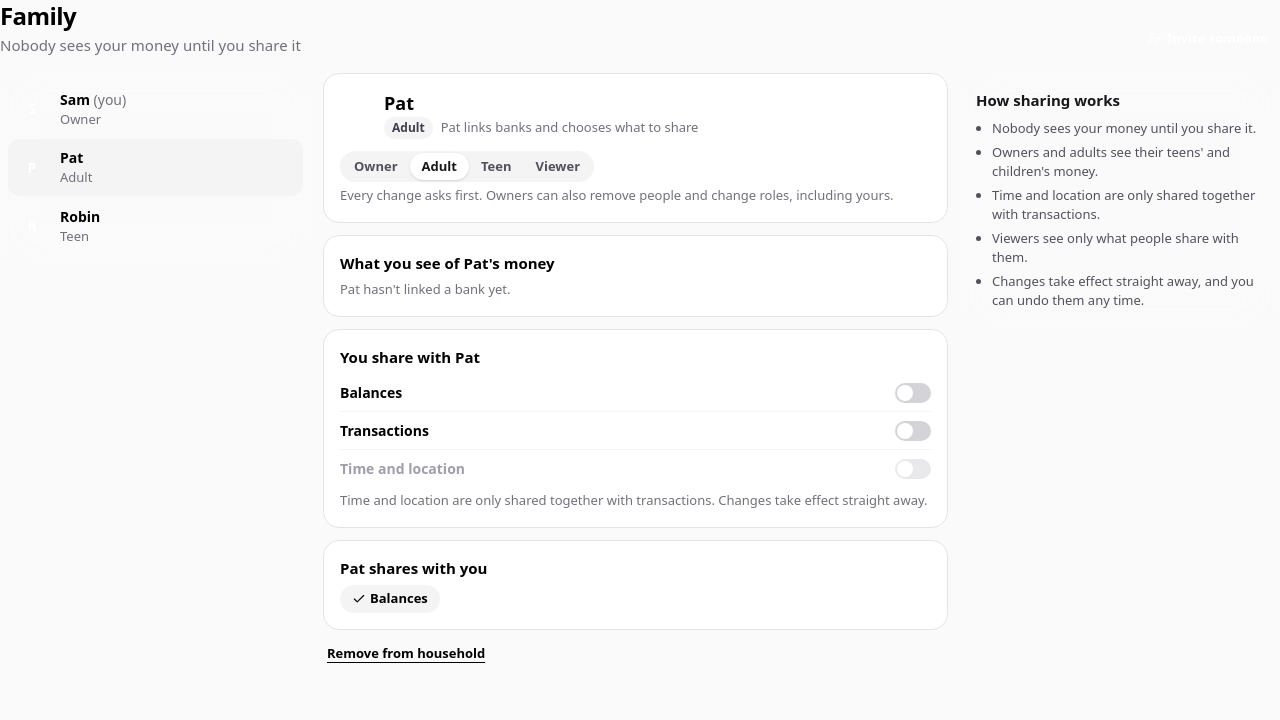
Test: FamilyPage › owners: invite, change roles and remove; removing needs the name and a fresh code
The width and height of the screenshot is (1280, 720).
Expected: the element named "Role for Pat" is shown, [340,150,594,182]
Click the button "Remove from household". click: (406, 653)
box: [327,644,485,663]
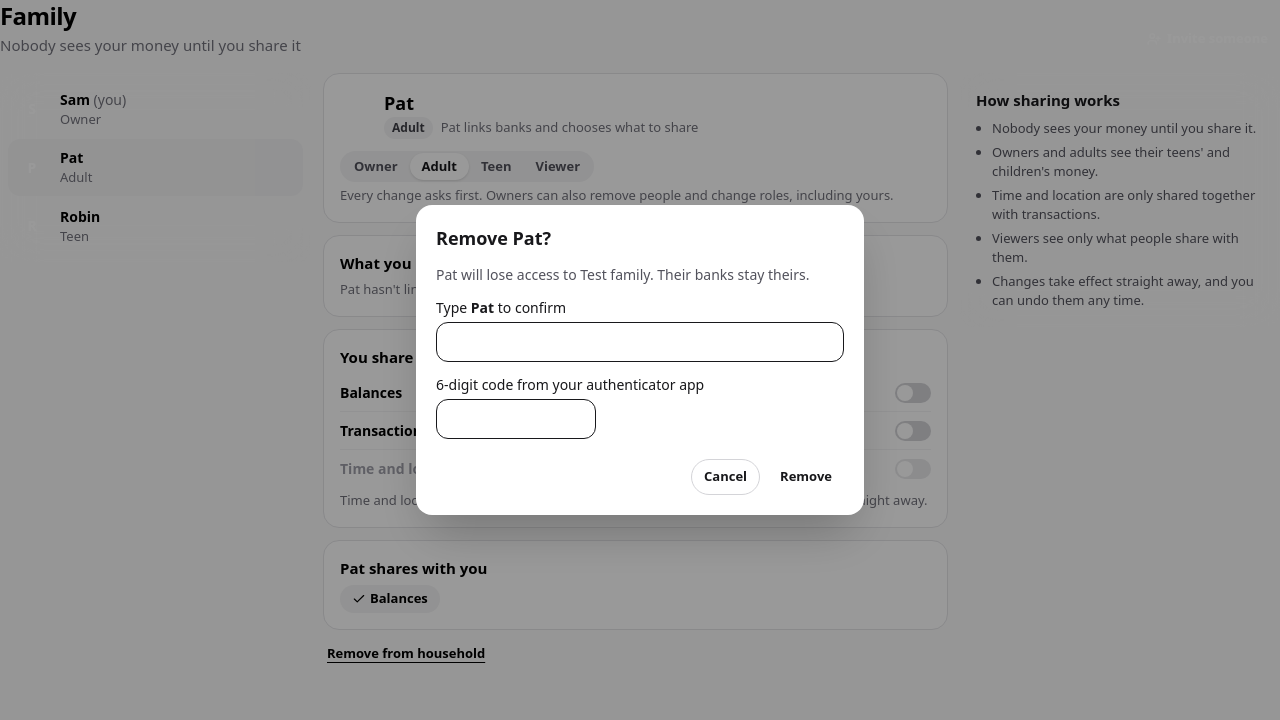
Expected: the text "Type Pat to confirm" is shown, [436,298,566,317]
Expected: the field labelled "6-digit code from your authenticator app" is shown, [436,399,596,439]
Expected: the button "Remove" is disabled, [768,459,844,495]
